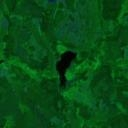alloviz: (54, 49, 77, 89)
